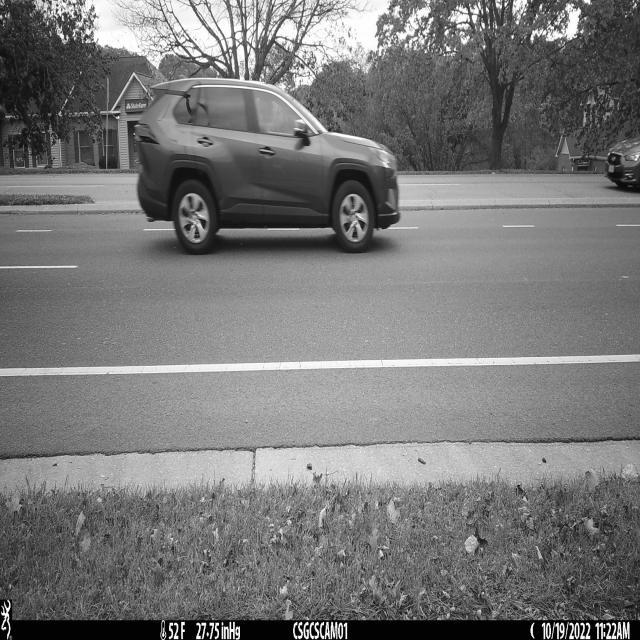SUV: (135, 77, 402, 256)
